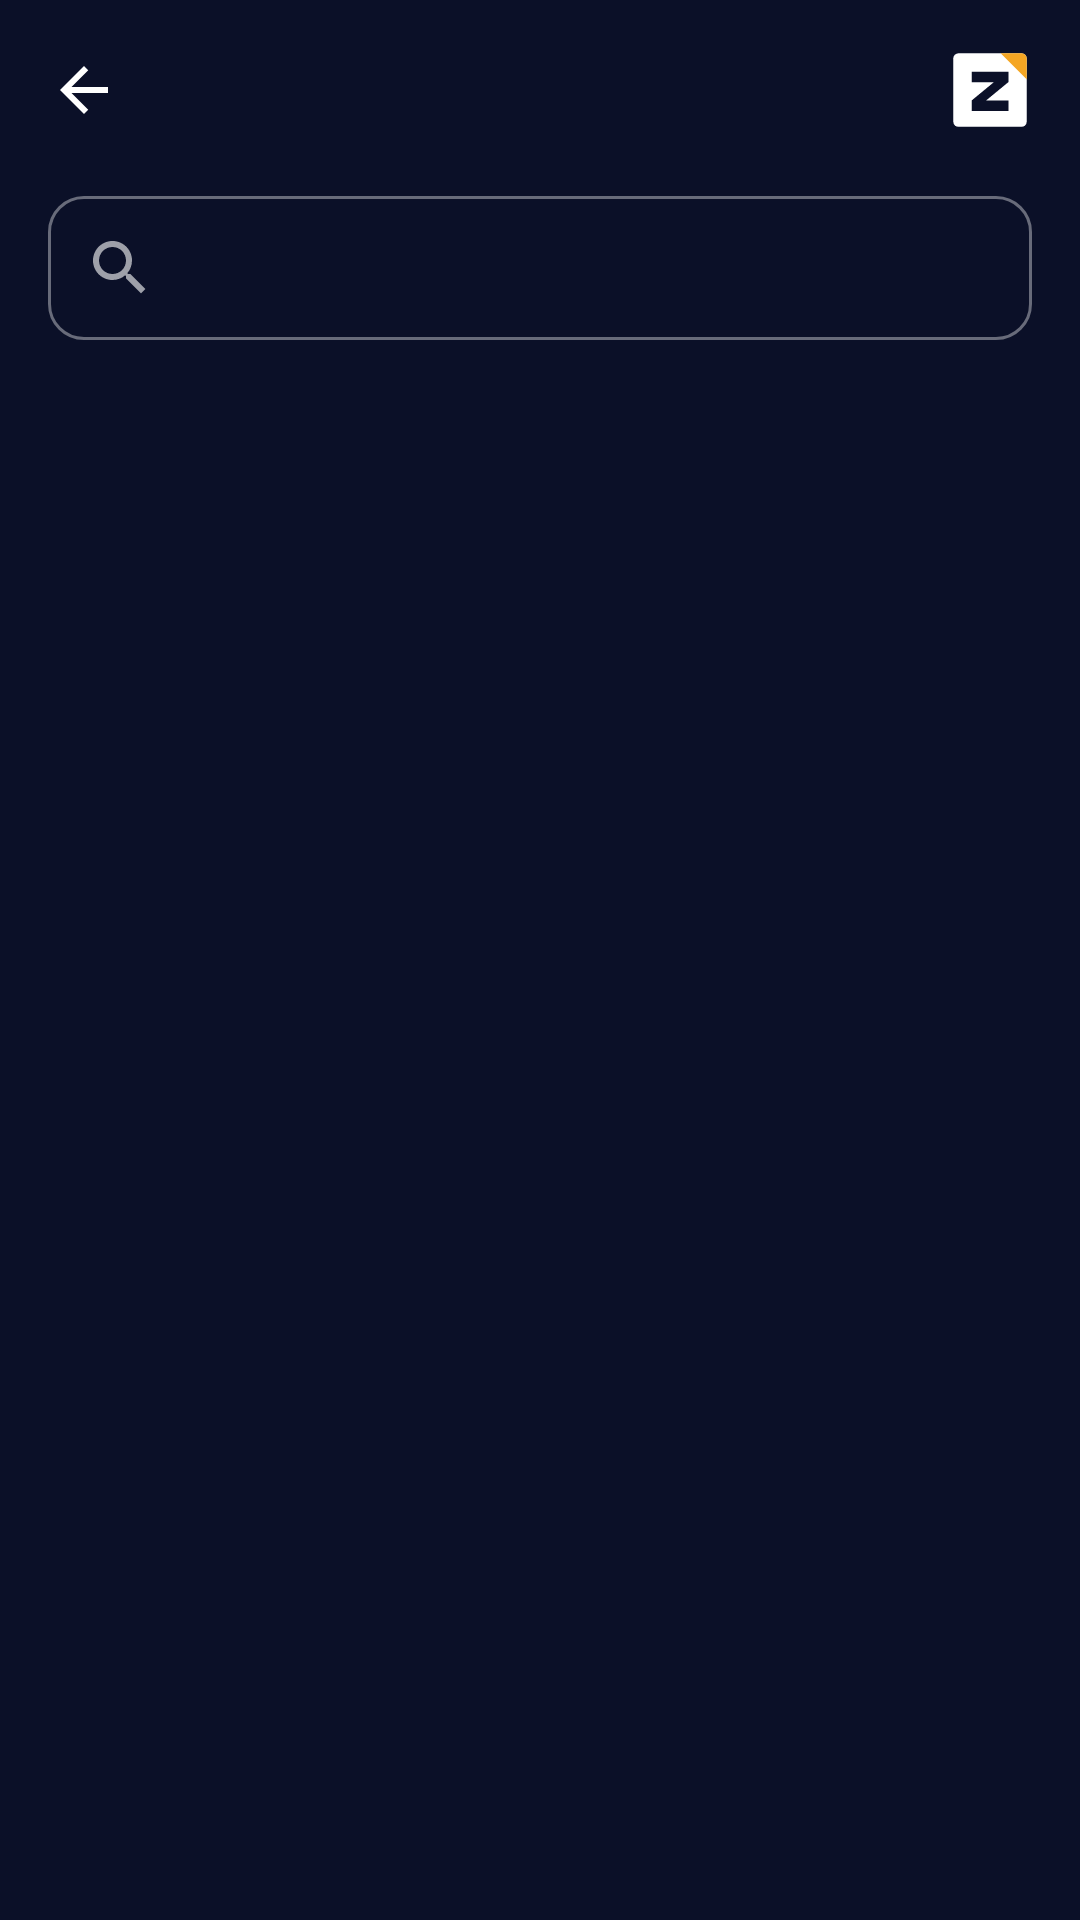

Screen size 1080px×1920px. Icon name, then its box in pixels as (x1, y1, x2, y2):
Volver: (60, 66, 108, 114)
